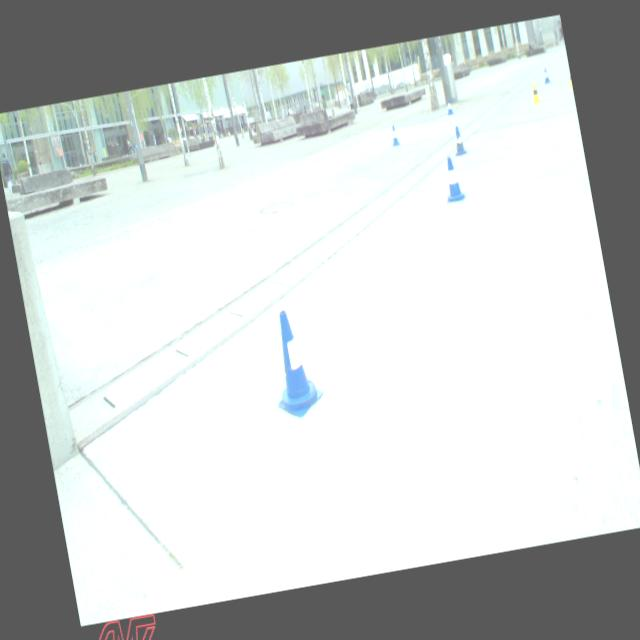blue_cone: (262, 304, 327, 420), (438, 154, 467, 203), (450, 124, 468, 156), (388, 124, 401, 146), (444, 98, 454, 115), (542, 66, 550, 84)
yellow_cone: (528, 80, 542, 104)
